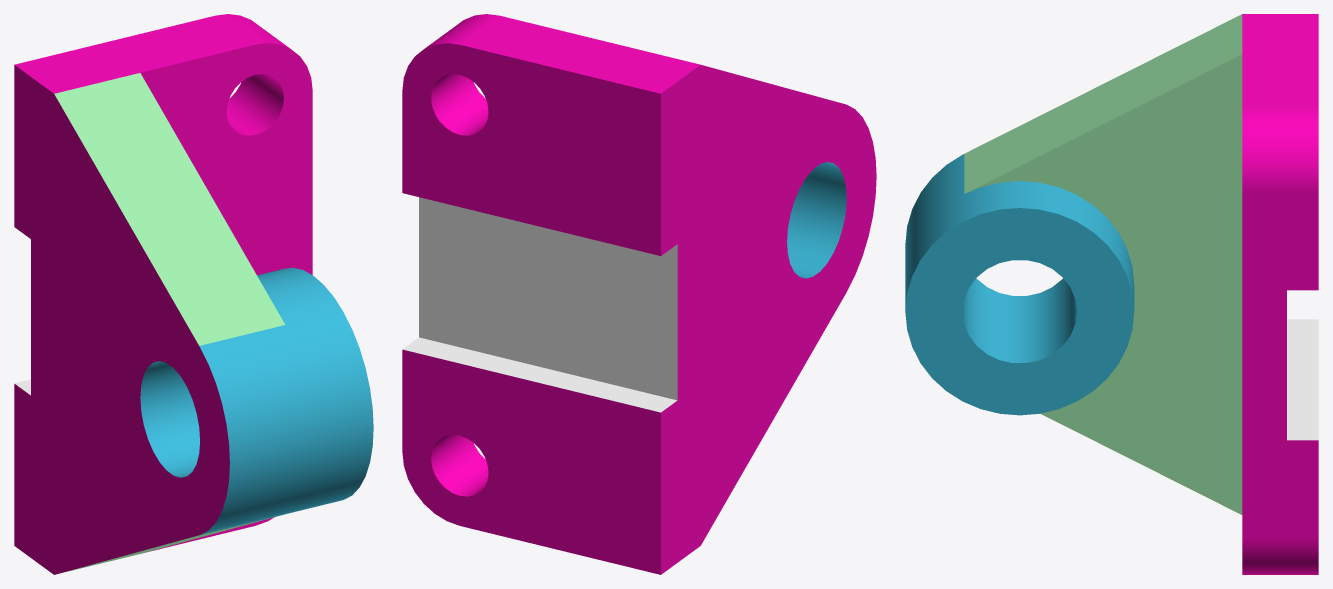
File: model_plain.glb
3 views of the same model, side by side, from view 1: azimuth 30°, elevation 25°; view 2: azimuth 150°, elevation 25°; view 3: azimuth 270°, elevation 25° (orthographic). The views are drawn at different scales.
Parts seen in each view (by area): view 1: 组合体2.SLDPRT; view 2: 组合体2.SLDPRT; view 3: 组合体2.SLDPRT.
Boxes of the visible parts, x1,y1,x2,y2 form: 组合体2.SLDPRT: (14,14,373,574); 组合体2.SLDPRT: (402,14,876,574); 组合体2.SLDPRT: (905,14,1318,574).
Bounding box in the file's own units: 0.045 × 0.08 × 0.065.
